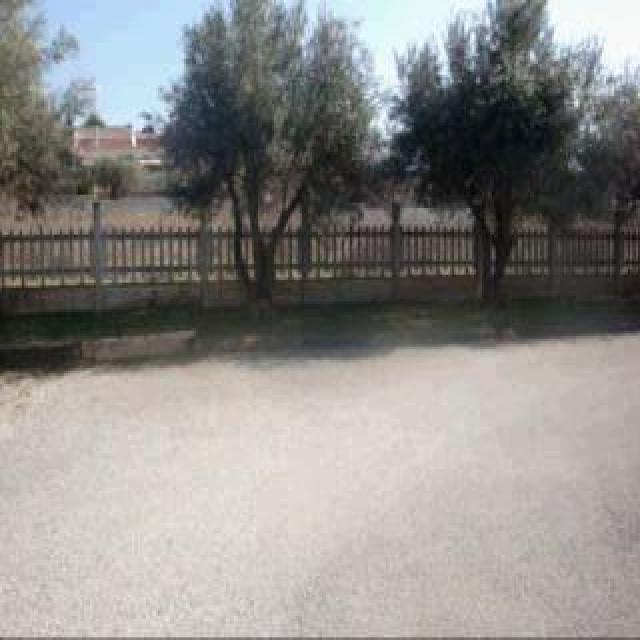other: (570, 3, 636, 67)
